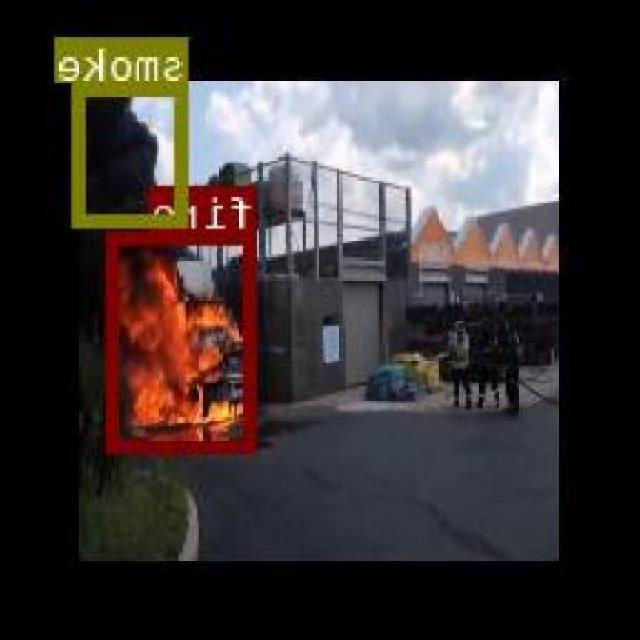Fire: (111, 230, 257, 450)
Smoke: (77, 80, 191, 226)
